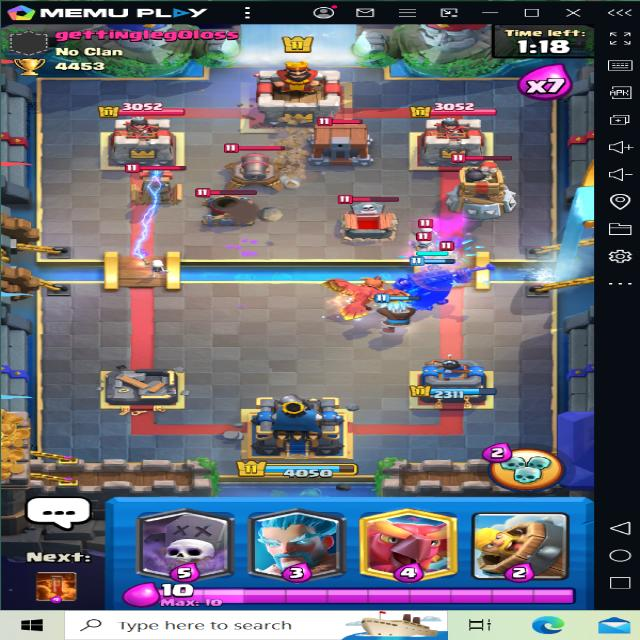bomb-tower: (449, 153, 522, 214)
cannon: (216, 139, 298, 194)
goblin-cage: (300, 113, 377, 162)
mortar: (192, 187, 266, 222)
skeleton: (416, 220, 444, 240), (411, 232, 437, 252)
tesla: (123, 156, 187, 208)
tombstone: (333, 191, 398, 247)
